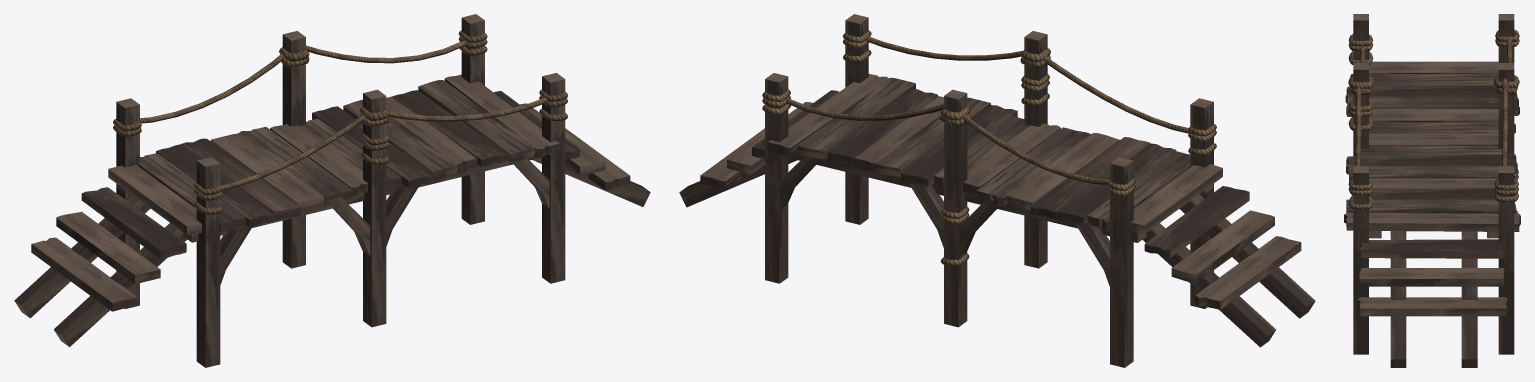
File: SM_Bridge.fbx
3 views of the same model, side by side, from view 1: azimuth 30°, elevation 25°; view 2: azimuth 150°, elevation 25°; view 3: azimuth 270°, elevation 25° (orthographic). The views are drawn at different scales.
Parts seen in each view (by area): view 1: SM_Bridge_LOD0; view 2: SM_Bridge_LOD0; view 3: SM_Bridge_LOD0.
Part boxes in pixels (x1,y1,x2,y2): SM_Bridge_LOD0: [14, 14, 650, 367]; SM_Bridge_LOD0: [679, 14, 1315, 367]; SM_Bridge_LOD0: [1344, 14, 1520, 367].
Size of the model in its own units: 989 by 285 by 366.
2 materials, 2 textured.
